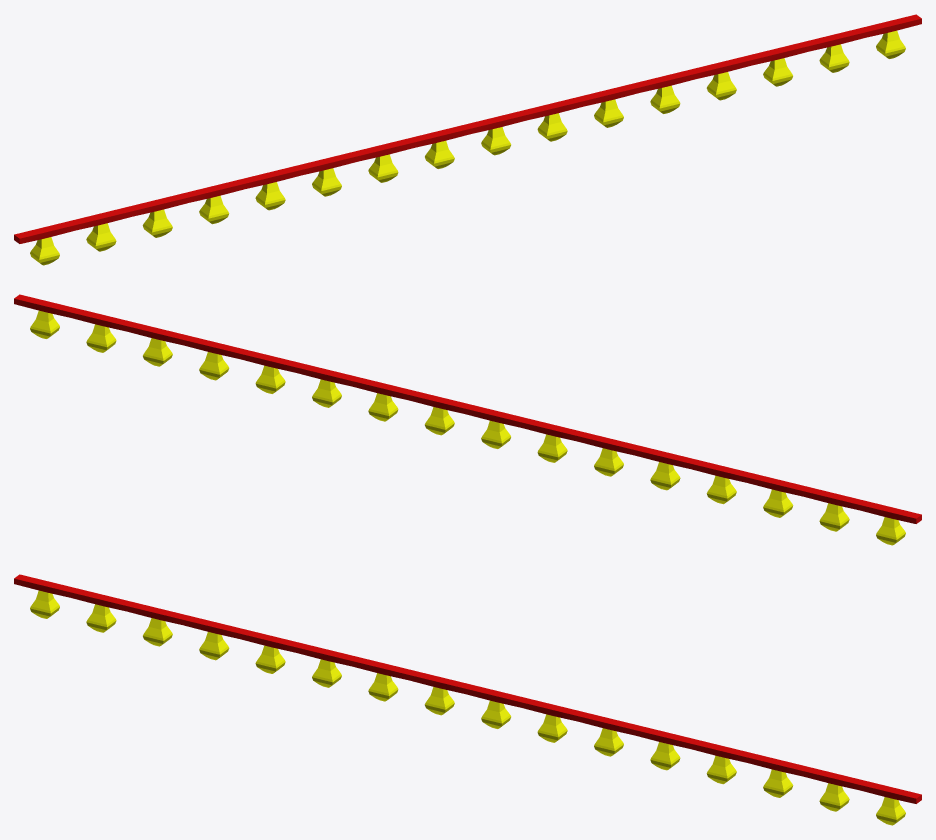
Rendered from KF_SM_StringLights_Ben.fbx.
The picture shows the model from 3 angles, top to bottom: view 1: azimuth 30°, elevation 25°; view 2: azimuth 150°, elevation 25°; view 3: azimuth 330°, elevation 25°; orthographic projection.
Parts seen in each view (by area): view 1: Box001; view 2: Box001; view 3: Box001.
Part boxes in pixels (<box>): Box001: <box>14,14,921,265</box>; Box001: <box>14,294,921,545</box>; Box001: <box>14,574,921,825</box>.
Size of the model in its own units: 79.06 by 2.87 by 1.42.
